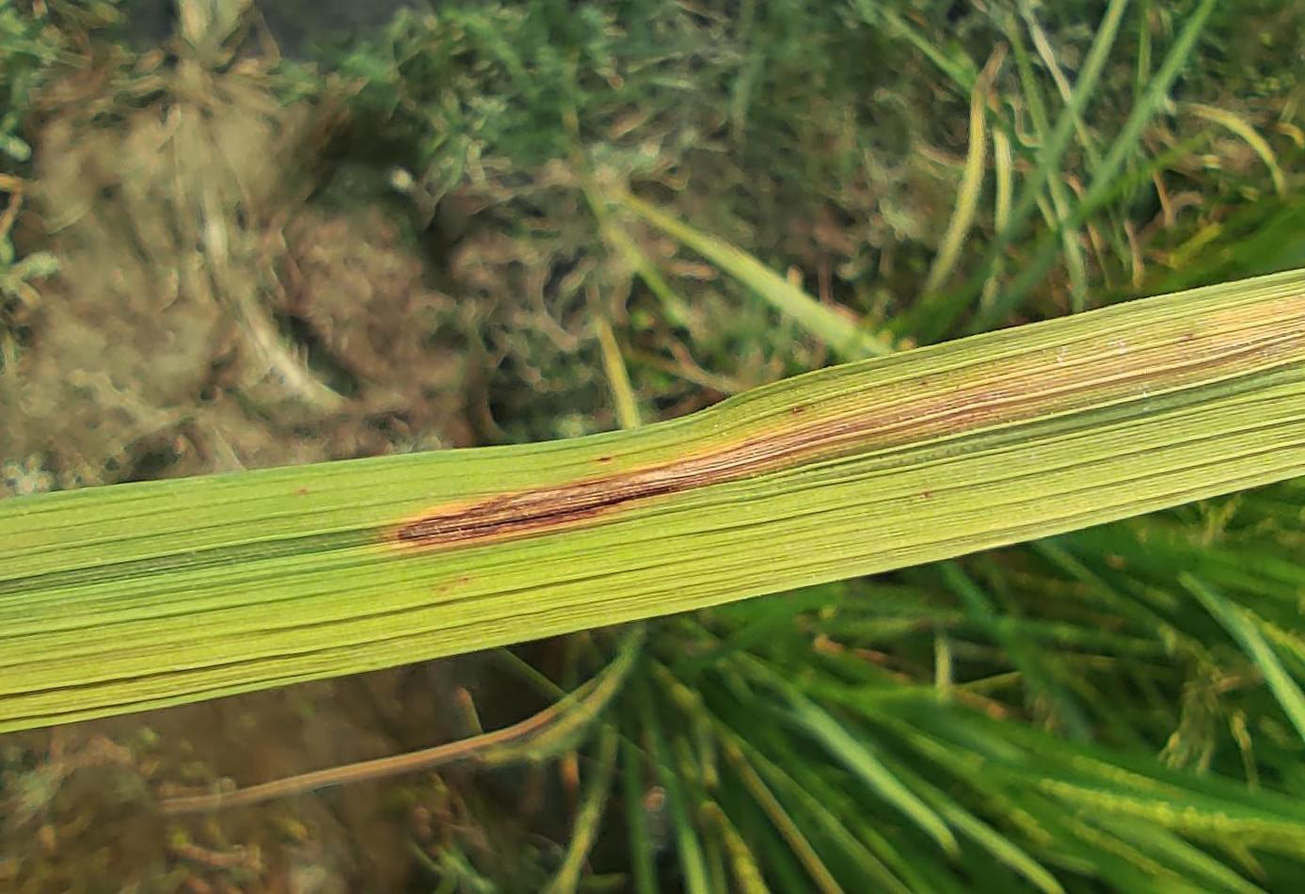LEAF BLAST: (396, 428, 850, 547)
